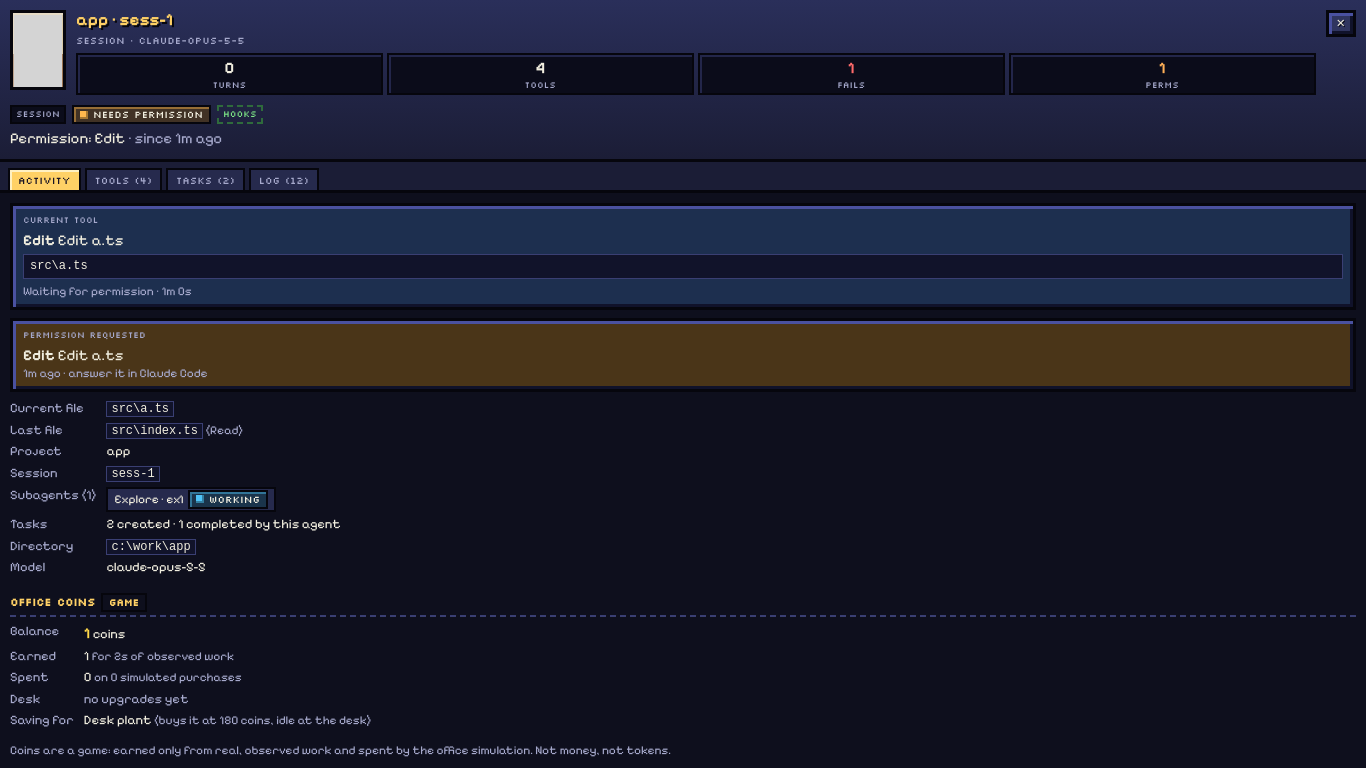
Inspector › lists tool history with outcomes, durations and expandable errors
Click the tab "Tools (4)" at [123, 179], box [84,168,162,190]
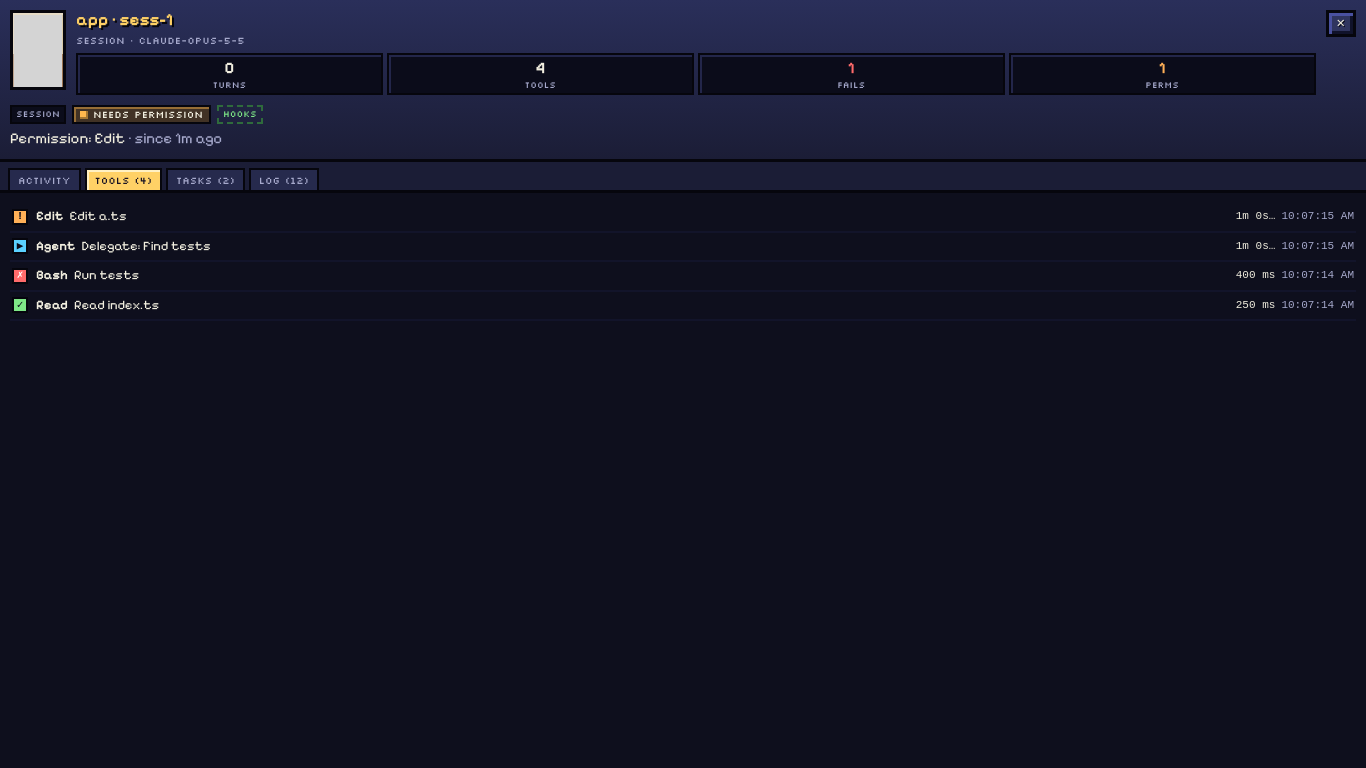
Now the text "250 ms" is shown, box [1236,298,1275,313]
Click the button "✗ Bash Run tests 400 ms 10:07:14 AM" at [52, 275], box [10,262,1356,290]
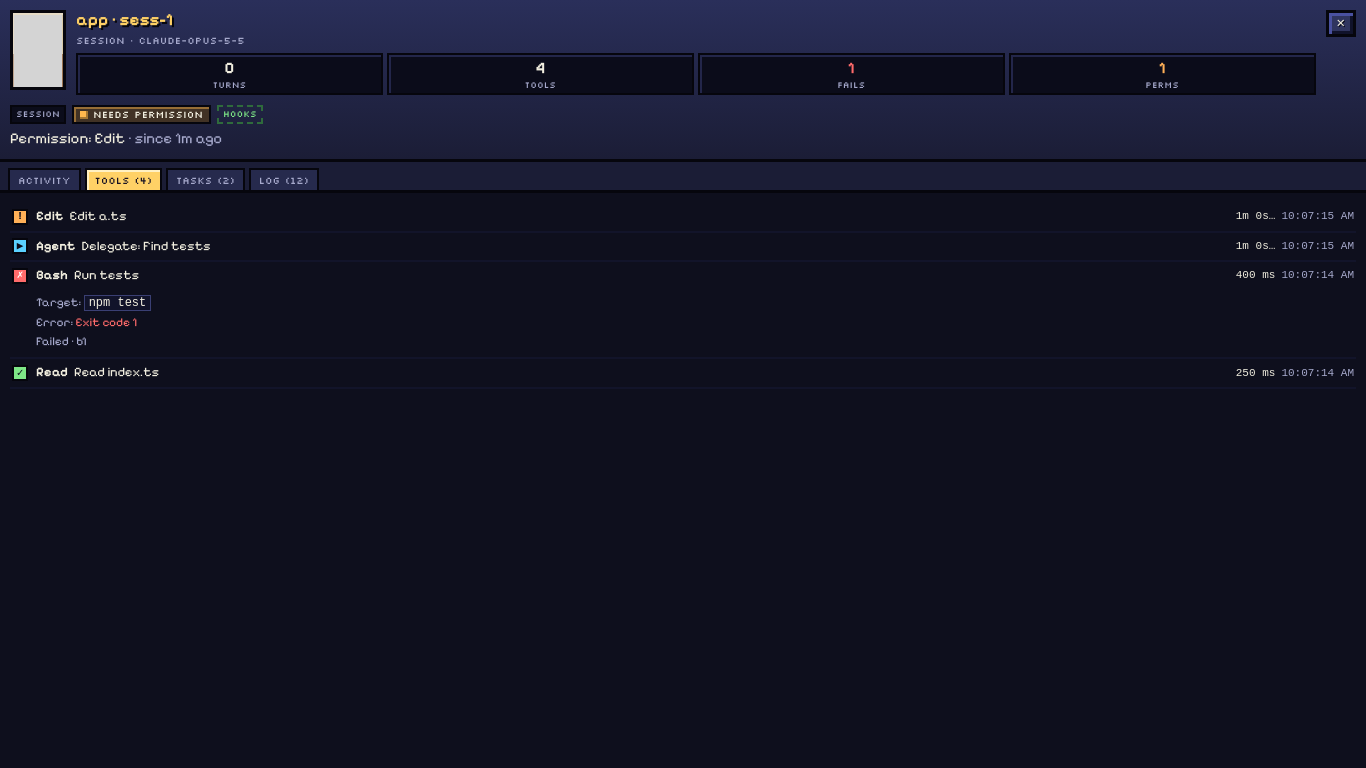
Now the text "Exit code 1" is shown, box [76,315,137,329]
